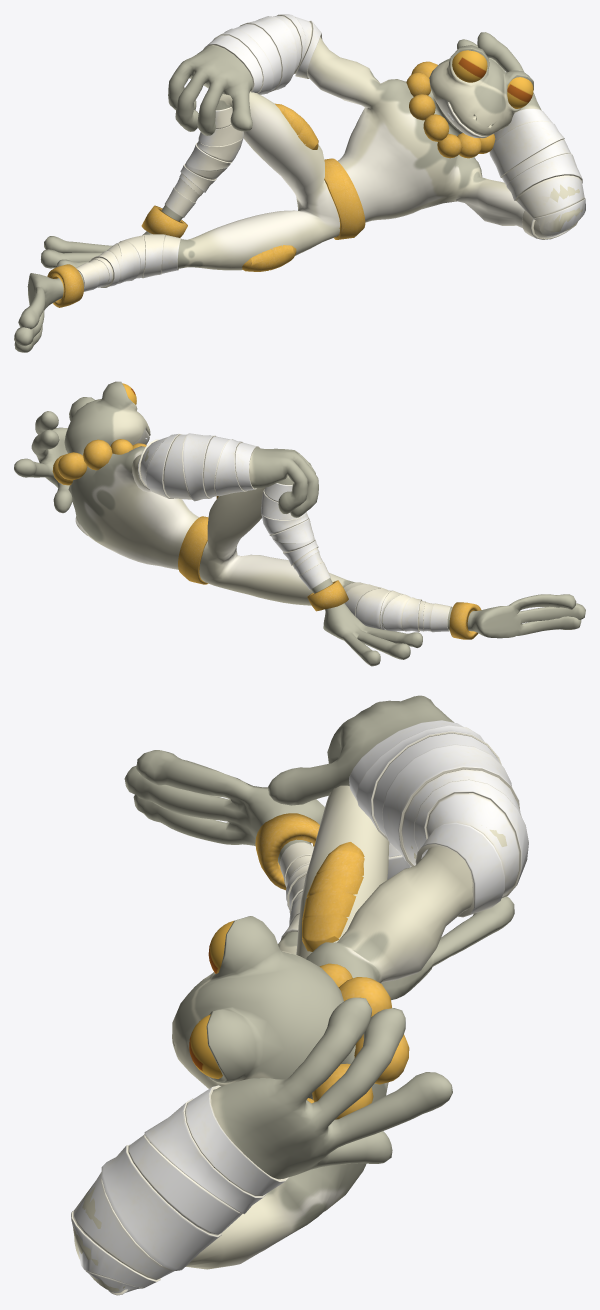
Rendered from Pose.fbx.
3 renders of one model, top to bottom at view 1: azimuth 30°, elevation 25°; view 2: azimuth 150°, elevation 25°; view 3: azimuth 270°, elevation 25°, orthographic. The views are drawn at different scales.
Visible parts, largest first — view 1: Bellow_Toad_Lvl_3_rig:Body_Geo, Bellow_Toad_Lvl_3_rig:Accessories_Geo, Bellow_Toad_Lvl_3_rig:neck_mesh_Geo, Bellow_Toad_Lvl_3_rig:Right_Eye_Geo, Bellow_Toad_Lvl_3_rig:Left_Eye_Geo; view 2: Bellow_Toad_Lvl_3_rig:Body_Geo, Bellow_Toad_Lvl_3_rig:Accessories_Geo, Bellow_Toad_Lvl_3_rig:neck_mesh_Geo; view 3: Bellow_Toad_Lvl_3_rig:Body_Geo, Bellow_Toad_Lvl_3_rig:Accessories_Geo, Bellow_Toad_Lvl_3_rig:neck_mesh_Geo, Bellow_Toad_Lvl_3_rig:Left_Eye_Geo.
Part boxes in pixels (left/top/right/bottom): Bellow_Toad_Lvl_3_rig:Body_Geo: left=14, top=32, right=582, bottom=352; Bellow_Toad_Lvl_3_rig:Accessories_Geo: left=47, top=14, right=585, bottom=307; Bellow_Toad_Lvl_3_rig:neck_mesh_Geo: left=406, top=61, right=495, bottom=158; Bellow_Toad_Lvl_3_rig:Right_Eye_Geo: left=452, top=50, right=487, bottom=82; Bellow_Toad_Lvl_3_rig:Left_Eye_Geo: left=507, top=77, right=533, bottom=108; Bellow_Toad_Lvl_3_rig:Body_Geo: left=14, top=381, right=585, bottom=666; Bellow_Toad_Lvl_3_rig:Accessories_Geo: left=138, top=433, right=481, bottom=639; Bellow_Toad_Lvl_3_rig:neck_mesh_Geo: left=52, top=439, right=146, bottom=485; Bellow_Toad_Lvl_3_rig:Body_Geo: left=73, top=695, right=514, bottom=1291; Bellow_Toad_Lvl_3_rig:Accessories_Geo: left=71, top=720, right=528, bottom=1295; Bellow_Toad_Lvl_3_rig:neck_mesh_Geo: left=307, top=963, right=409, bottom=1119; Bellow_Toad_Lvl_3_rig:Left_Eye_Geo: left=189, top=1014, right=222, bottom=1078.
Size of the model in its own units: 238 by 80.34 by 91.26.
5 materials, 5 textured.
